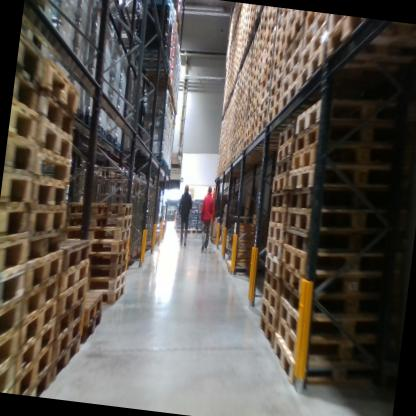pallet: (293, 83, 416, 157), (272, 314, 393, 382), (290, 111, 416, 174), (277, 278, 401, 336), (287, 136, 416, 190), (283, 198, 412, 252), (278, 298, 400, 353), (285, 157, 415, 208), (282, 239, 411, 290), (285, 174, 413, 225), (283, 215, 407, 266), (271, 338, 396, 387), (276, 260, 402, 308), (325, 17, 416, 65), (16, 291, 61, 358), (65, 218, 133, 261), (15, 266, 62, 327), (14, 314, 58, 378), (18, 244, 65, 302), (32, 85, 83, 138), (33, 61, 84, 113), (21, 220, 68, 273), (26, 171, 72, 223), (31, 114, 78, 163), (24, 196, 71, 242), (64, 194, 136, 224), (17, 338, 53, 394), (30, 140, 75, 184), (67, 209, 133, 239), (14, 35, 49, 91), (0, 290, 24, 370), (0, 256, 28, 323), (0, 316, 25, 391), (11, 64, 45, 118), (0, 165, 34, 219), (4, 125, 38, 178), (0, 226, 28, 290), (50, 330, 83, 384), (9, 92, 42, 145), (0, 193, 33, 246), (298, 45, 332, 94), (53, 315, 87, 362), (299, 22, 329, 73), (60, 233, 93, 279), (18, 6, 51, 51), (297, 12, 327, 61), (57, 273, 88, 320), (56, 297, 85, 342), (59, 257, 91, 296), (88, 264, 128, 294), (75, 285, 102, 327), (85, 258, 127, 285), (88, 246, 126, 275), (285, 8, 312, 46), (284, 26, 307, 66), (28, 362, 54, 397), (255, 310, 279, 347), (256, 297, 281, 332), (280, 78, 303, 114), (256, 115, 291, 137), (280, 62, 302, 96), (99, 282, 126, 309), (0, 353, 19, 391), (276, 119, 299, 150), (281, 45, 301, 79), (242, 137, 282, 154), (275, 133, 297, 163), (259, 279, 280, 310), (263, 218, 285, 247), (270, 152, 293, 179), (259, 251, 281, 278), (271, 167, 292, 195), (260, 266, 280, 294), (264, 233, 285, 259), (303, 11, 324, 37), (83, 312, 102, 338), (225, 260, 255, 276), (266, 99, 281, 129), (266, 204, 287, 225), (270, 44, 285, 73), (263, 27, 277, 55), (267, 76, 282, 102), (270, 57, 283, 87), (269, 188, 289, 207), (326, 16, 344, 37), (272, 30, 286, 57), (268, 89, 282, 112), (256, 40, 269, 63), (238, 144, 261, 157), (275, 18, 287, 42), (264, 42, 276, 66), (208, 234, 226, 249), (276, 10, 291, 28), (260, 68, 272, 90), (260, 80, 272, 101), (261, 57, 273, 78), (251, 94, 264, 113), (257, 32, 268, 54), (258, 21, 268, 44), (254, 72, 266, 91), (259, 92, 269, 114), (249, 119, 260, 139), (266, 18, 278, 36), (269, 9, 278, 33), (251, 106, 263, 124), (259, 103, 269, 124), (258, 13, 268, 34), (255, 63, 265, 83), (249, 127, 259, 147), (256, 51, 266, 69), (253, 84, 264, 100), (252, 22, 261, 41), (242, 125, 251, 142), (249, 62, 258, 79), (252, 33, 261, 50), (248, 72, 258, 87), (185, 224, 198, 235), (252, 43, 260, 60), (246, 99, 255, 113), (4, 381, 15, 392), (260, 7, 268, 22), (248, 90, 256, 105), (249, 79, 257, 94), (246, 107, 253, 124), (248, 41, 254, 60), (244, 118, 252, 132), (268, 7, 276, 20), (251, 53, 259, 66), (197, 225, 209, 233), (246, 50, 252, 66), (173, 226, 186, 233), (245, 68, 251, 82), (239, 127, 245, 140), (246, 61, 252, 74), (243, 94, 250, 105), (239, 136, 245, 148), (240, 110, 246, 122), (244, 77, 250, 88), (241, 119, 246, 128), (242, 104, 247, 113), (243, 87, 249, 94)
